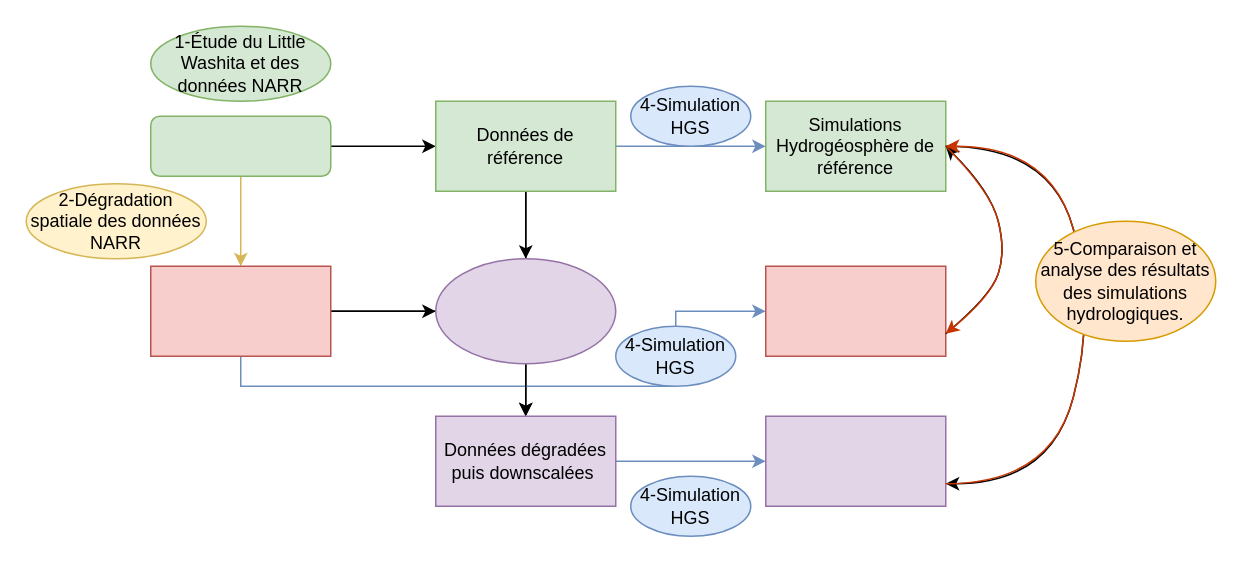
Image size: 1242x563. Some labels were removed from this diagram. Here are the shapes that lost their labels. From the top down, the centre of each, then its label:
At point (240, 145): "Données NARR".
At point (240, 310): "Données dégradées, données IPSL".
At point (525, 310): "3-Downscaling des données dégradées et IPSL".
At point (855, 310): "Simulations Hydrogéosphère dégradées".
At point (855, 460): "Simulations Hydrogéosphère downscalées".
